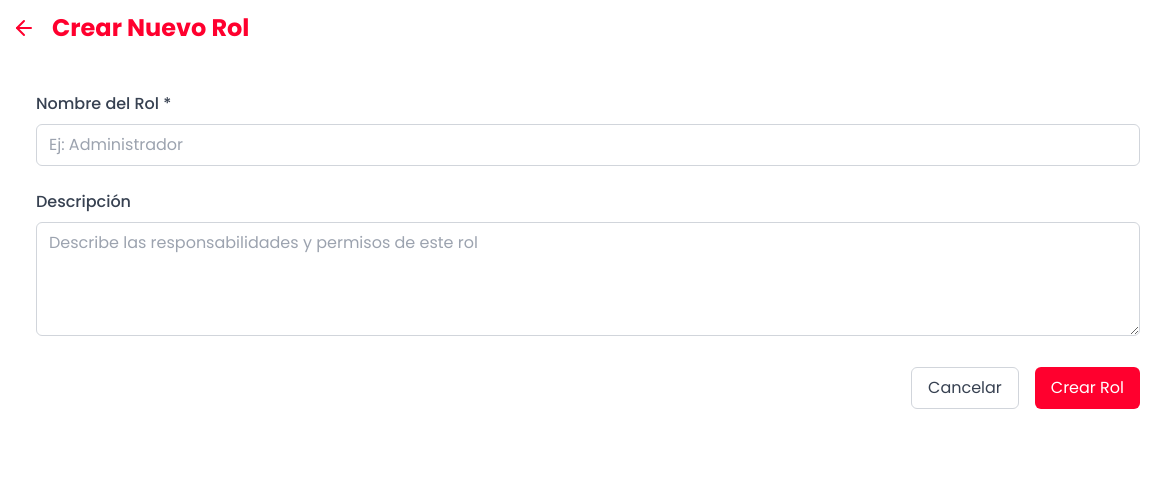
Test: CreateRole › displays an error when form submission fails
The width and height of the screenshot is (1157, 492).
Fill out the form
Type "Manager" into the field labelled "Nombre del Rol *" at (588, 145), box [36,124,1140,166]
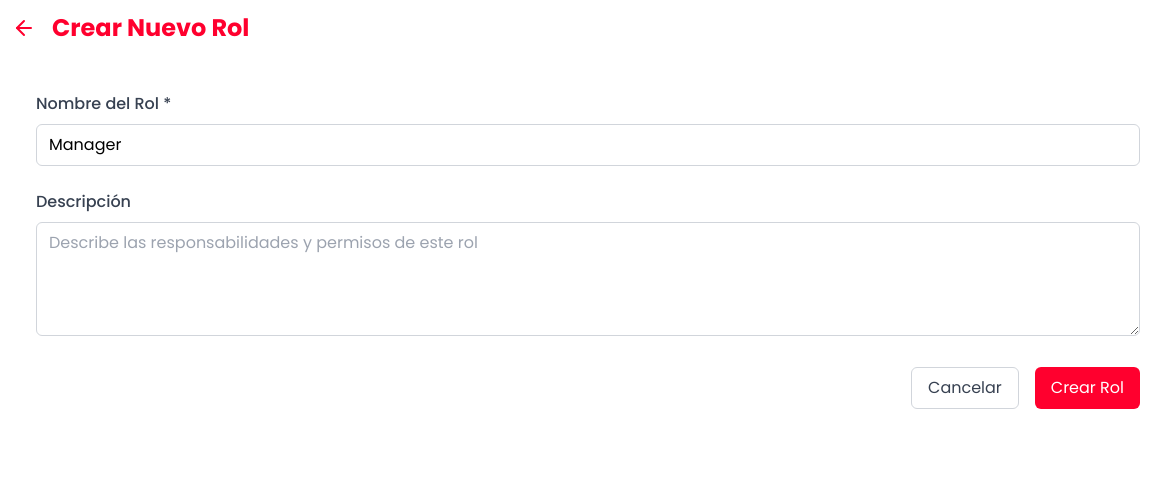
Type "Responsible for team management" into the text box labelled "Descripción" at (588, 279), box [36,222,1140,336]
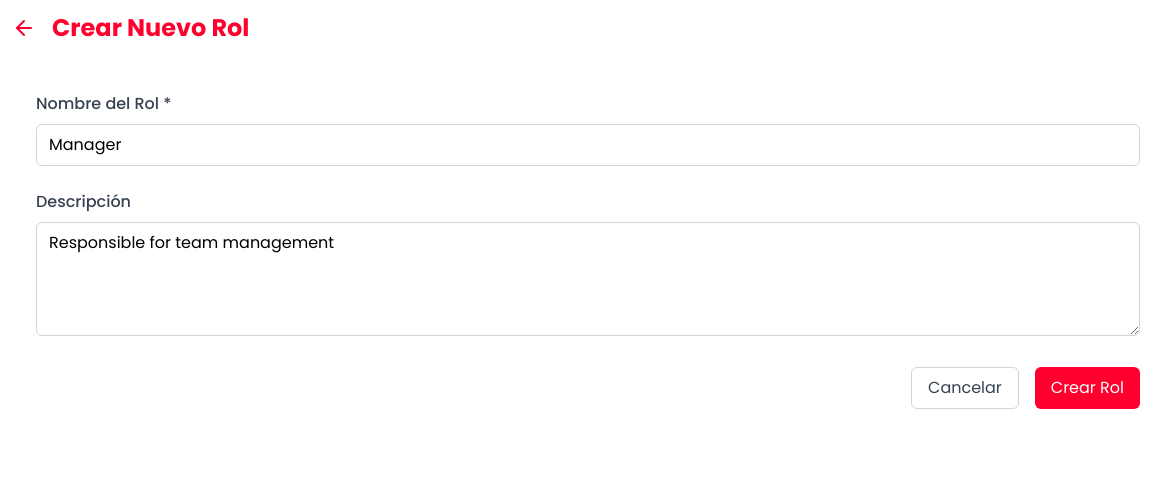
Click the button "Crear Rol" at (1087, 388), box [1035,367,1140,409]
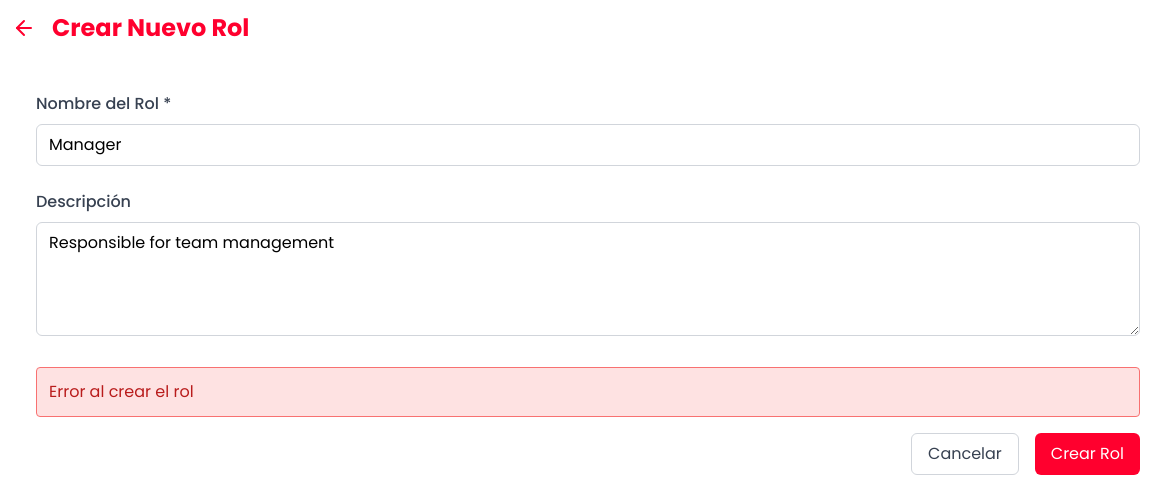
Result: the text "Error al crear el rol" is shown at [36,367,1140,417]
